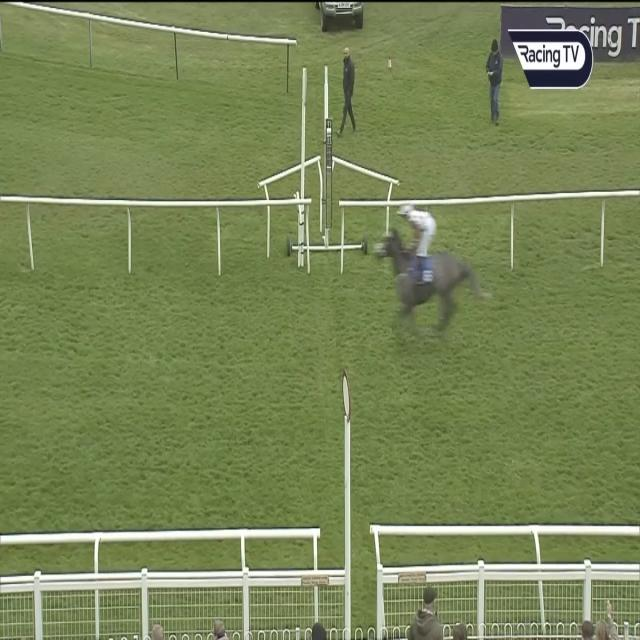horses-racing: (378, 200, 483, 336)
